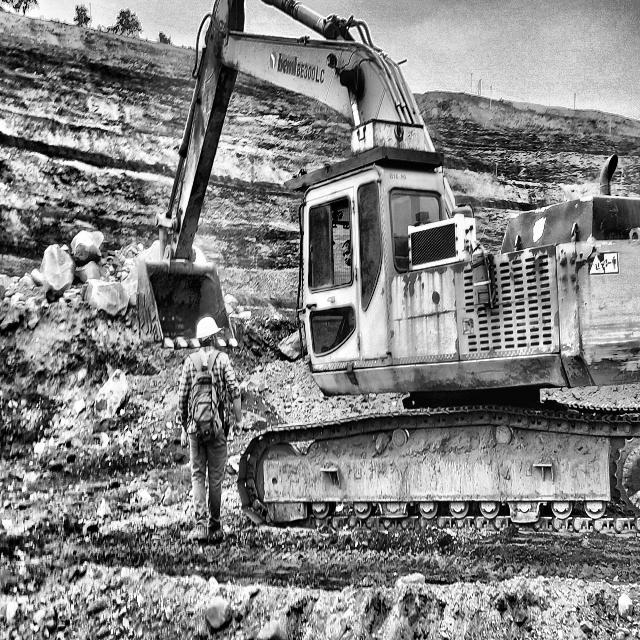excavator: (138, 0, 640, 533)
